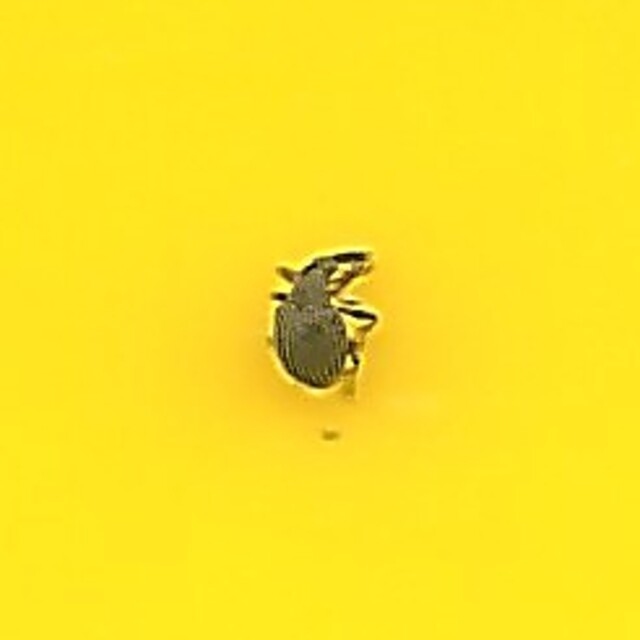Coleoptera: (260, 246, 380, 394)
